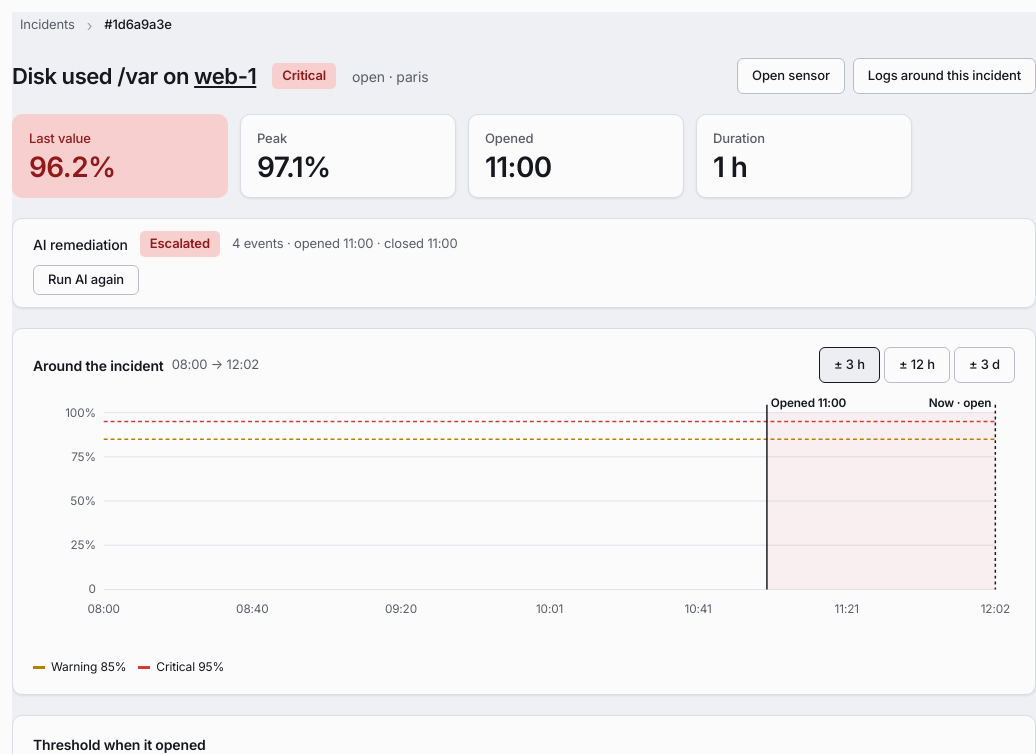
Test: IncidentPage › running AI again (ADR-0165) › offers it on an open alert whose last attempt ended, and starts one
The width and height of the screenshot is (1036, 754).
Step 1. Click the button "Run AI again" → point(86, 280), box top-left (33, 265), bottom-right (139, 295)
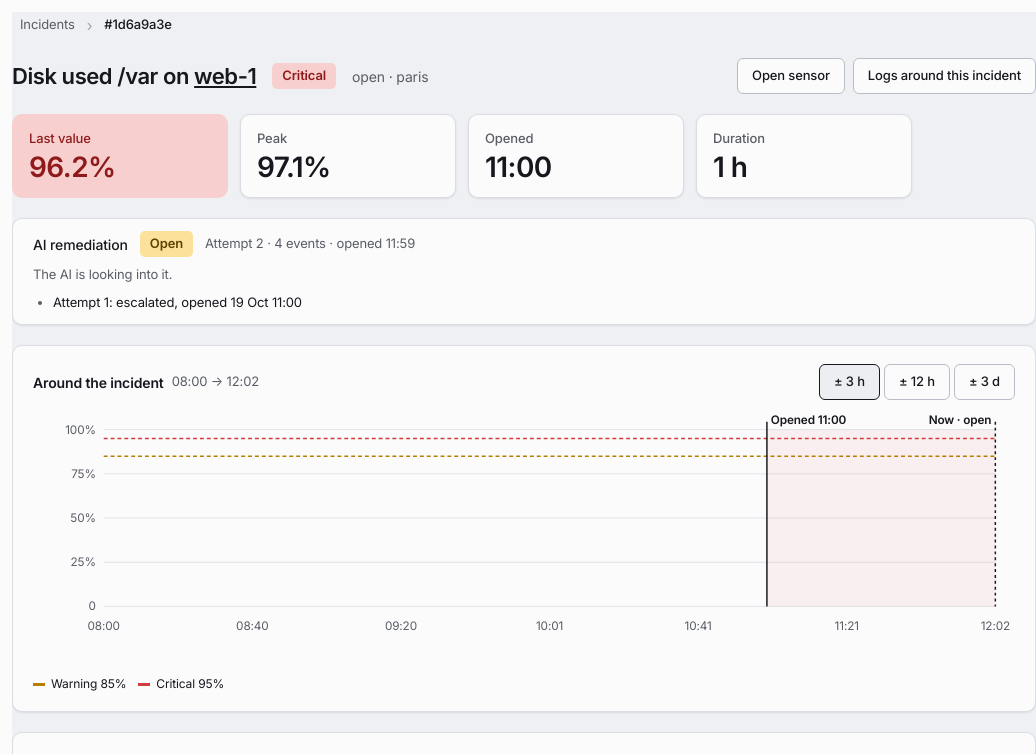
Check: the link "Attempt 1: escalated, opened 19 Oct 11:00" is shown, box top-left (53, 294), bottom-right (302, 310)
Check: the button "Run AI again" is gone
